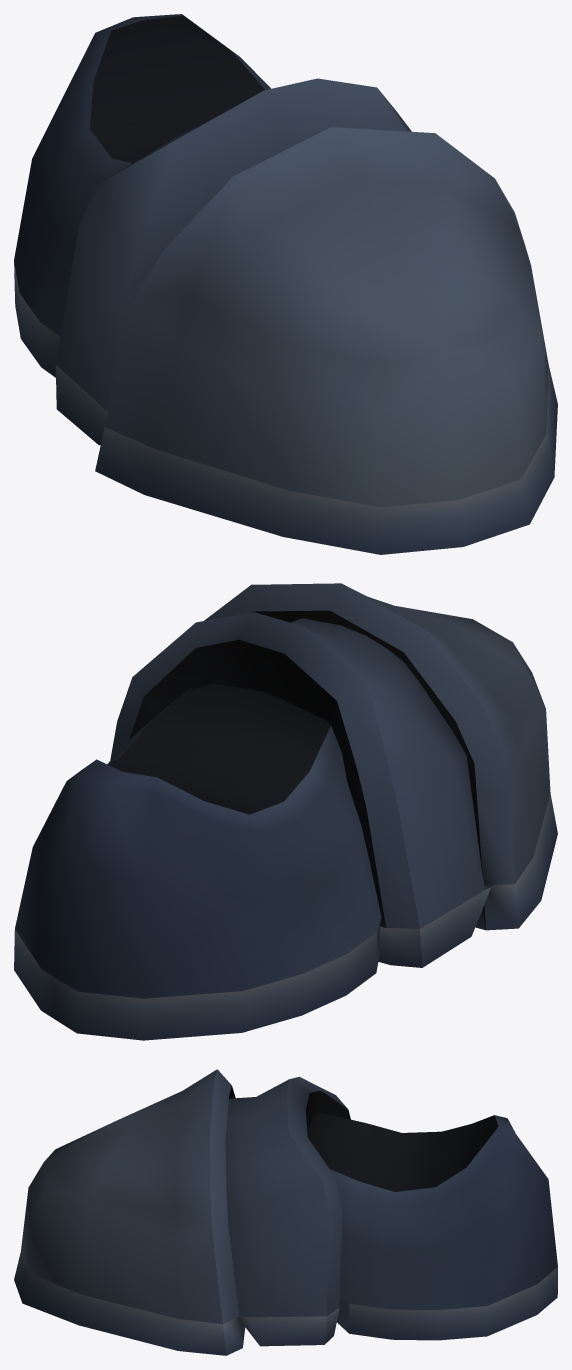
The model's file is Shoes_Armored_Shoes_R.gltf.
3 renders of one model, top to bottom at view 1: azimuth 30°, elevation 25°; view 2: azimuth 150°, elevation 25°; view 3: azimuth 270°, elevation 25°, orthographic. The views are drawn at different scales.
Parts seen in each view (by area): view 1: Shoes_Armored_Shoes_R; view 2: Shoes_Armored_Shoes_R; view 3: Shoes_Armored_Shoes_R.
Boxes of the visible parts, x1,y1,x2,y2 form: Shoes_Armored_Shoes_R: (14, 14, 557, 554); Shoes_Armored_Shoes_R: (14, 583, 557, 1040); Shoes_Armored_Shoes_R: (14, 1069, 557, 1355).
Bounding box in the file's own units: 0.3402 × 0.234 × 0.56.
1 material, 1 textured.
